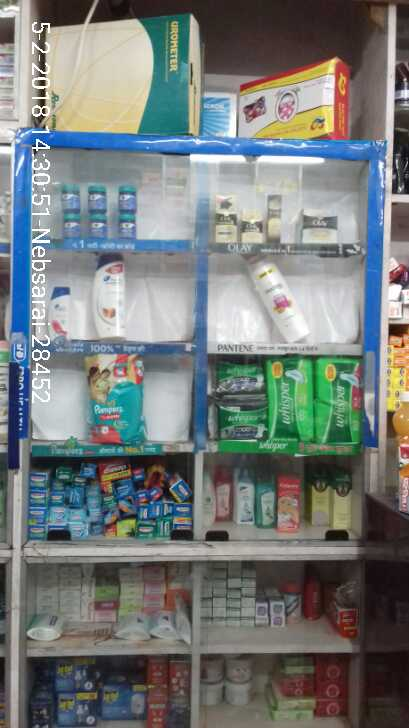vicks: (58, 179, 138, 241)
